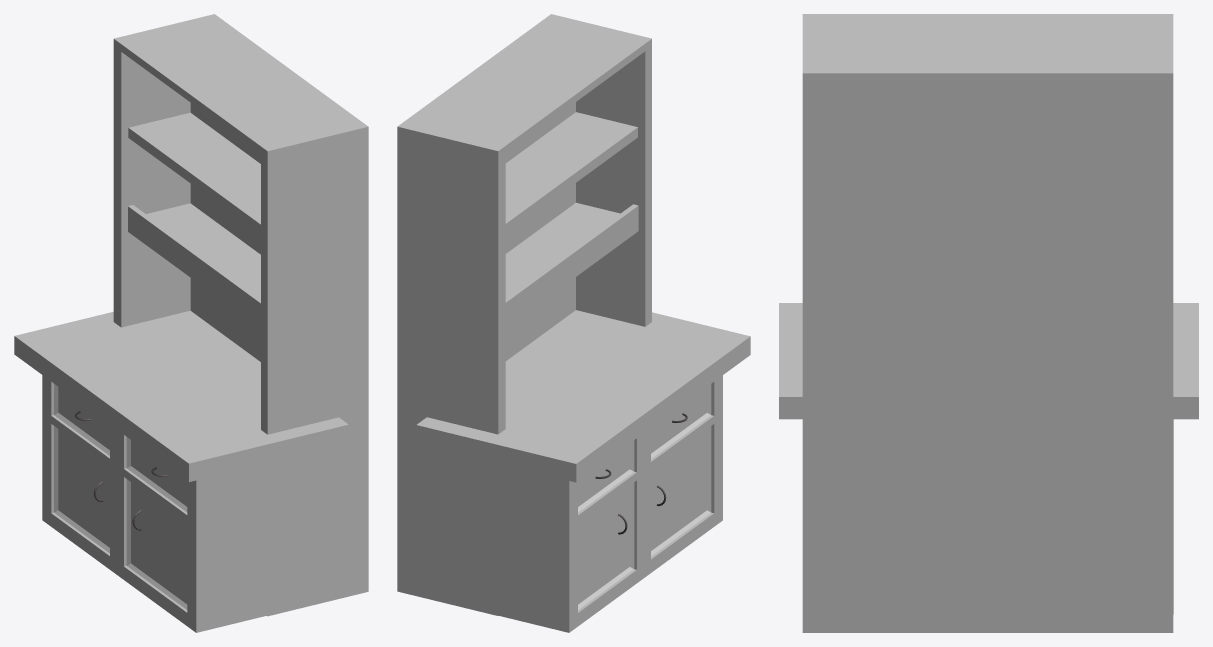
File: tallCabinet.fbx
3 renders of one model, left to right at view 1: azimuth 30°, elevation 25°; view 2: azimuth 150°, elevation 25°; view 3: azimuth 270°, elevation 25°, orthographic. The views are drawn at different scales.
Parts seen in each view (by area): view 1: tallCabinetBack, tallCabinetBase, tallCabinetTop; view 2: tallCabinetBack, tallCabinetBase, tallCabinetTop; view 3: tallCabinetBack, tallCabinetTop.
Part boxes in pixels (<box>): tallCabinetBack: <box>113,14,368,616</box>; tallCabinetBase: <box>42,375,267,632</box>; tallCabinetTop: <box>14,310,348,481</box>; tallCabinetBack: <box>397,14,651,615</box>; tallCabinetBase: <box>427,375,722,632</box>; tallCabinetTop: <box>416,310,750,482</box>; tallCabinetBack: <box>802,14,1173,632</box>; tallCabinetTop: <box>779,303,1198,419</box>.
Bounding box in the file's own units: 1.07 × 2.5 × 1.7.
